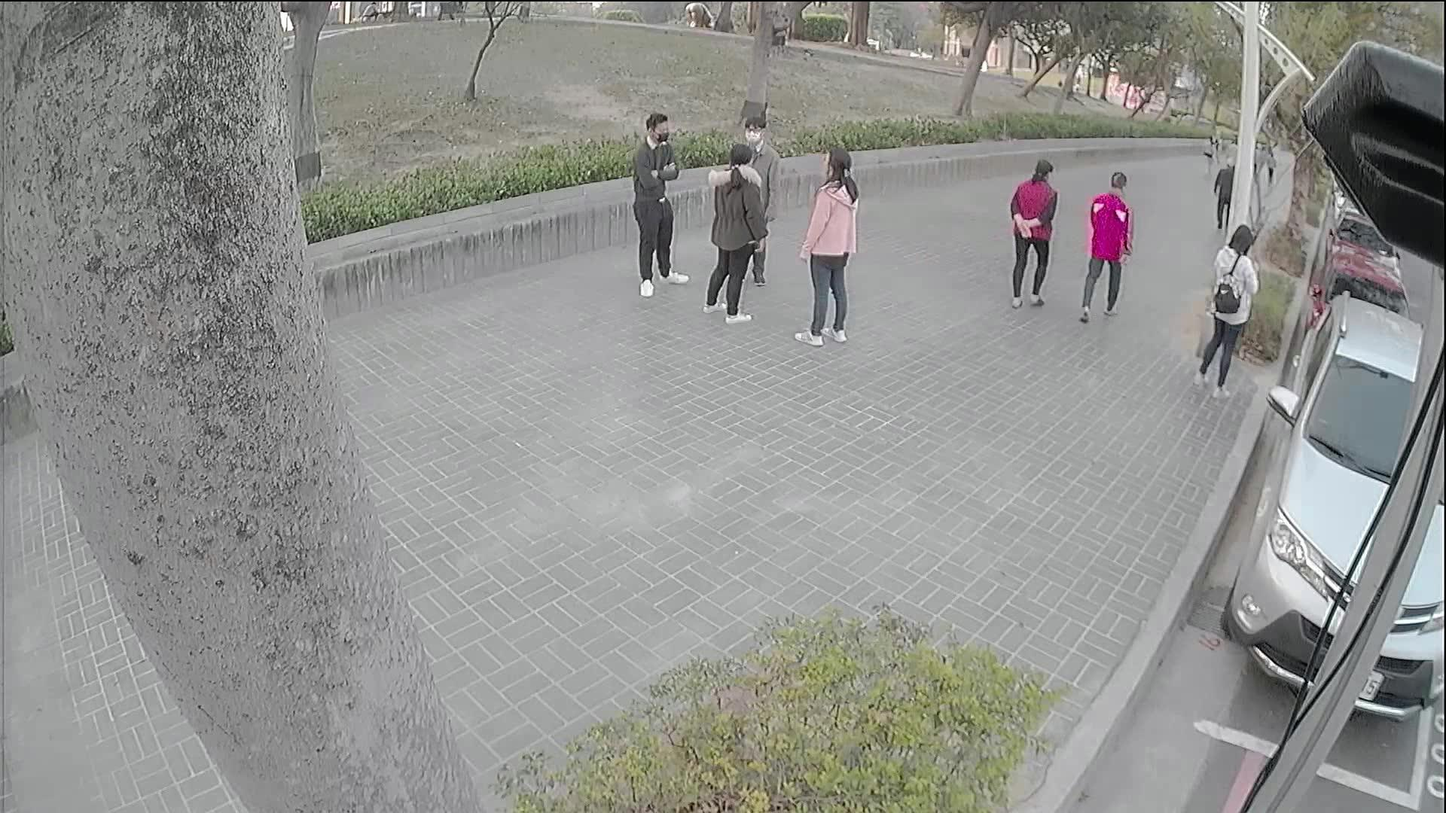person: (797, 145, 857, 340), (629, 109, 687, 295), (1197, 227, 1258, 397), (731, 109, 784, 293), (706, 142, 758, 319), (1078, 169, 1132, 321), (1007, 157, 1055, 306)
